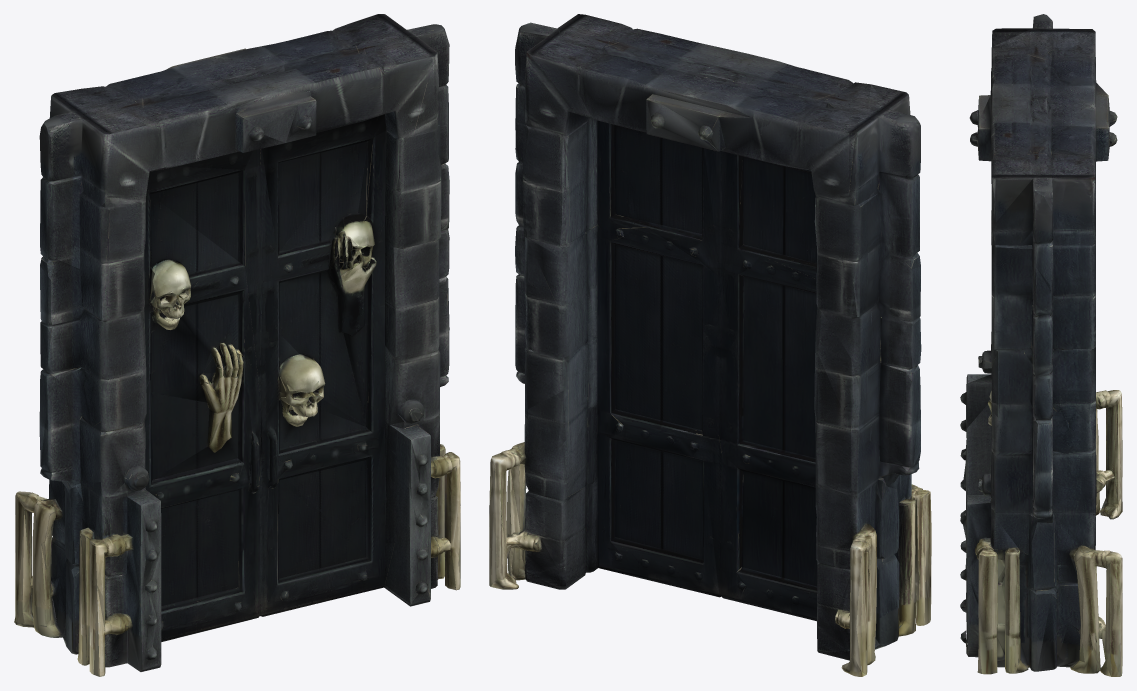
File: ZoneDoor.fbx
The picture shows the model from 3 angles, left to right: view 1: azimuth 30°, elevation 25°; view 2: azimuth 150°, elevation 25°; view 3: azimuth 270°, elevation 25°; orthographic projection. The views are drawn at different scales.
Parts seen in each view (by area): view 1: Mesh_0; view 2: Mesh_0; view 3: Mesh_0.
Part boxes in pixels (left/top/right/bottom): Mesh_0: left=14, top=14, right=460, bottom=676; Mesh_0: left=489, top=14, right=931, bottom=676; Mesh_0: left=960, top=14, right=1122, bottom=676.
Bounding box in the file's own units: 150 × 190 × 57.2.
Materials: 1 (1 with a texture image).
